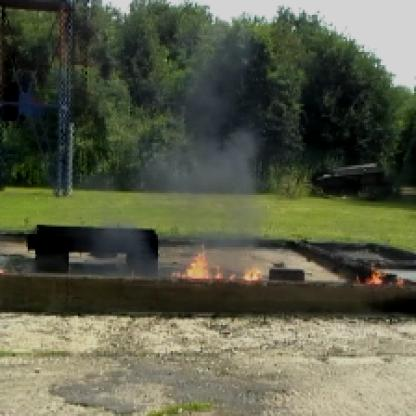Fire: (167, 240, 275, 286), (344, 266, 414, 292)
Smoke: (160, 100, 254, 236), (85, 202, 160, 282)
